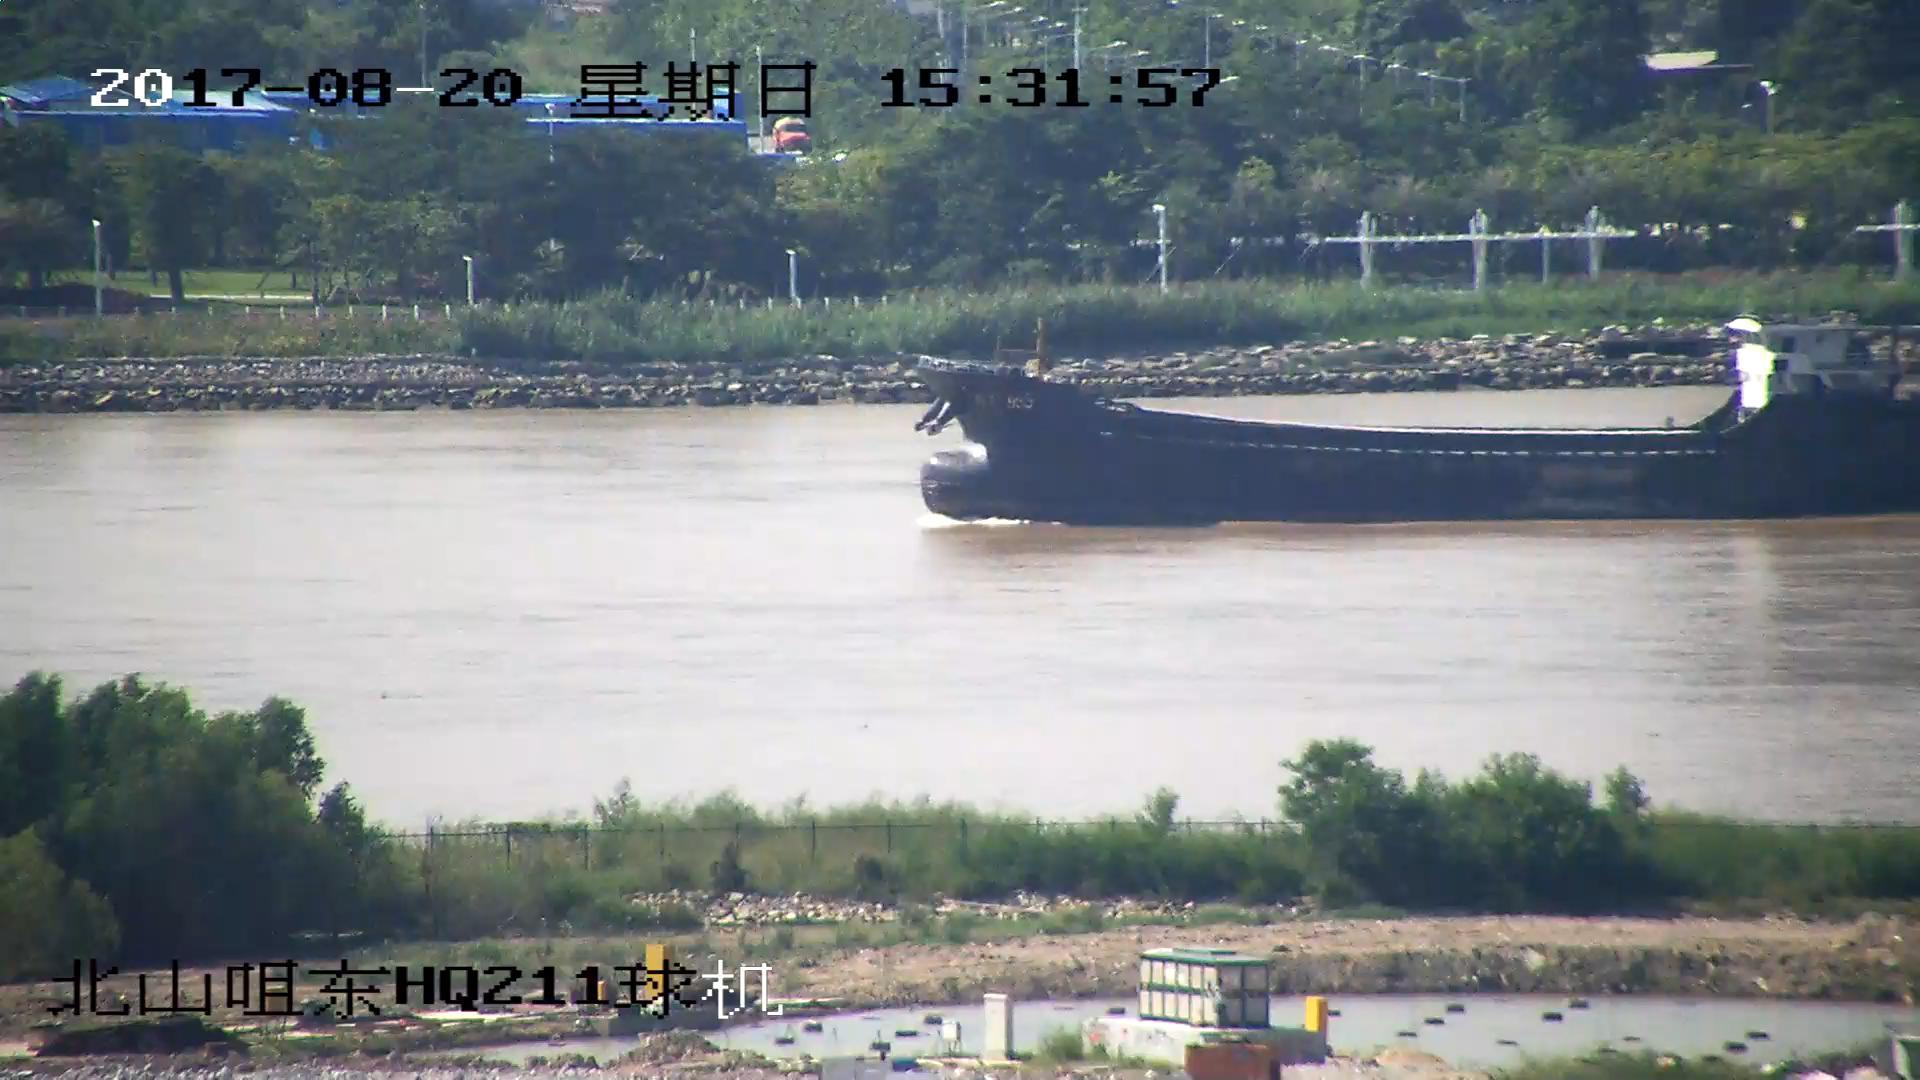Ship: (926, 323, 1920, 520)
